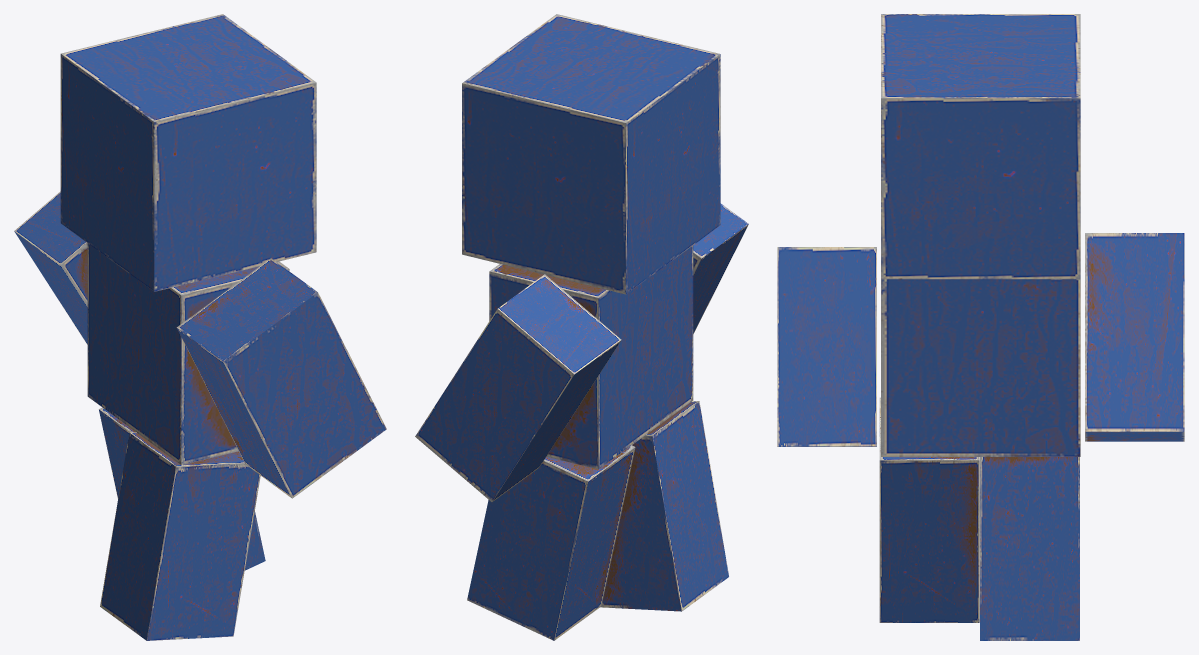
Rendered from gladiator.glb.
3 views of the same model, side by side, from view 1: azimuth 30°, elevation 25°; view 2: azimuth 150°, elevation 25°; view 3: azimuth 270°, elevation 25° (orthographic). The views are drawn at different scales.
Visible parts, largest first — view 1: head, rightarm, rightleg, chest, leftarm, leftleg; view 2: head, leftarm, leftleg, chest, rightleg, rightarm; view 3: head, chest, leftarm, rightarm, leftleg, rightleg.
Boxes of the visible parts, <box> form: head: <box>60,14,316,291</box>; rightarm: <box>176,258,386,498</box>; rightleg: <box>100,432,260,640</box>; chest: <box>87,243,289,464</box>; leftarm: <box>14,191,87,344</box>; leftleg: <box>99,407,265,570</box>; head: <box>462,14,720,294</box>; leftarm: <box>415,274,621,501</box>; leftleg: <box>467,445,635,640</box>; chest: <box>489,245,693,469</box>; rightleg: <box>600,400,728,611</box>; rightarm: <box>693,203,748,333</box>; head: <box>881,14,1080,279</box>; chest: <box>881,279,1080,456</box>; leftarm: <box>1085,233,1184,441</box>; rightarm: <box>777,247,876,446</box>; leftleg: <box>980,457,1079,640</box>; rightleg: <box>879,397,979,622</box>.
Bounding box in the file's own units: 1.18 × 3.14 × 2.04.
1 material, 1 textured.
